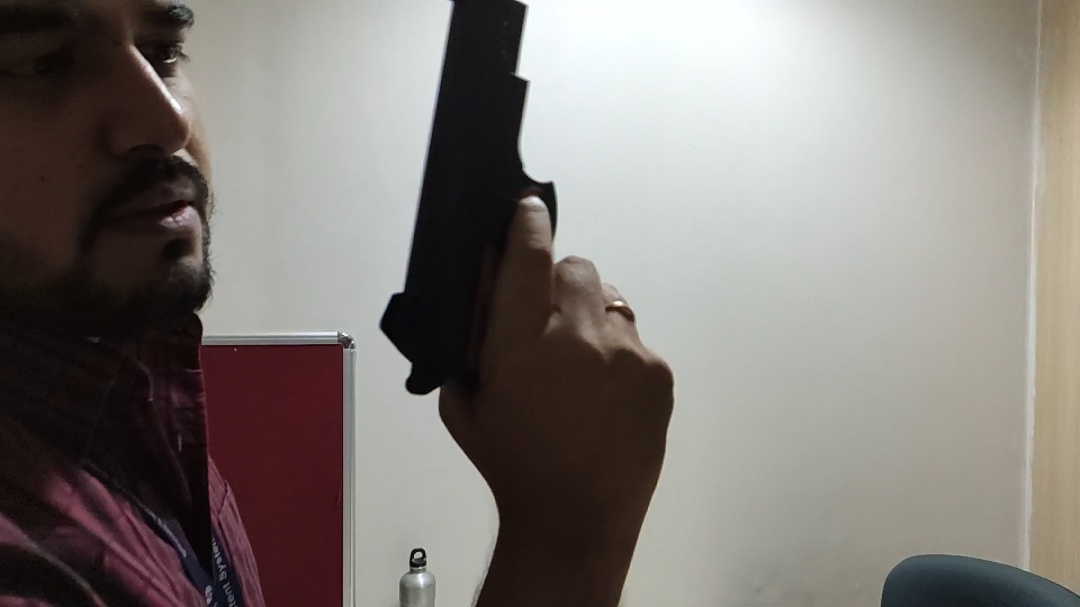gun: (373, 1, 626, 409)
